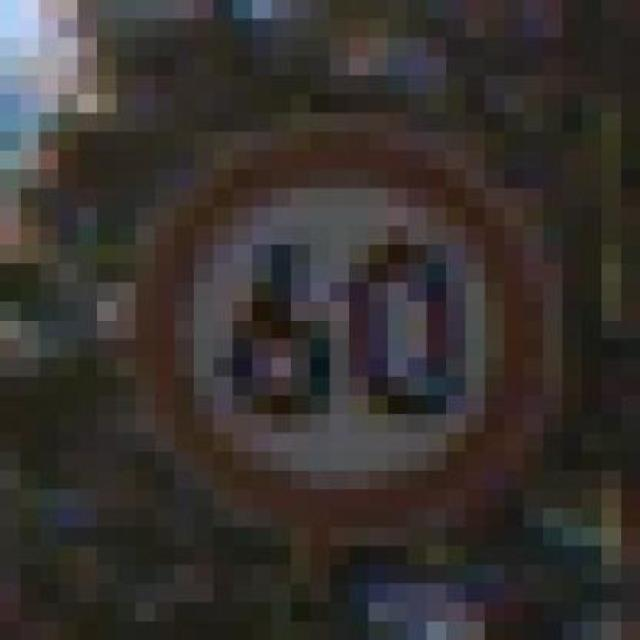forb_speed_over_60: (146, 134, 543, 531)
